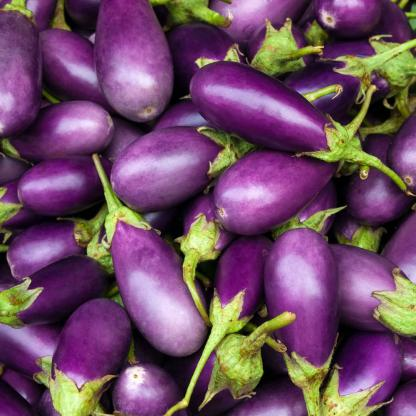--: (181, 56, 416, 190), (82, 154, 210, 354)
